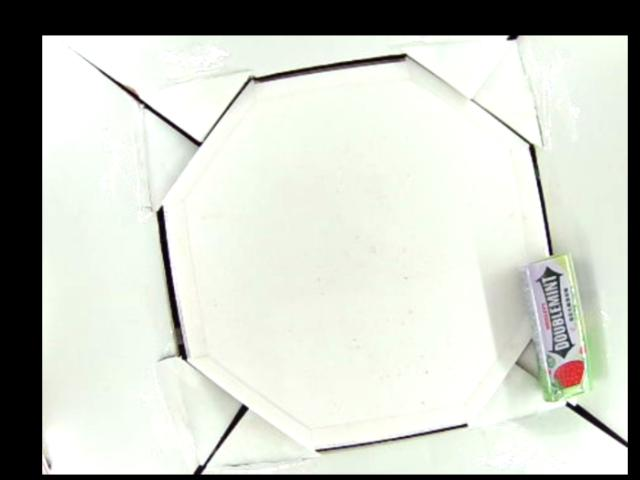Bottle: (521, 254, 595, 404)
